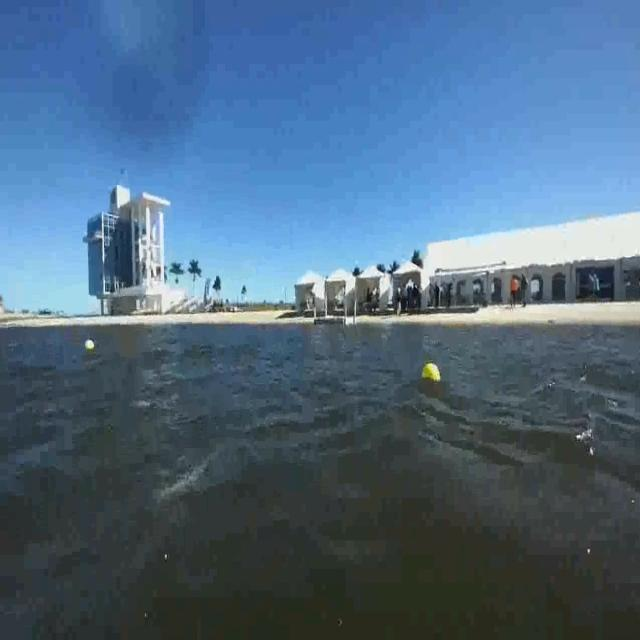yellow-buoy: (422, 361, 441, 380), (86, 338, 97, 355)
